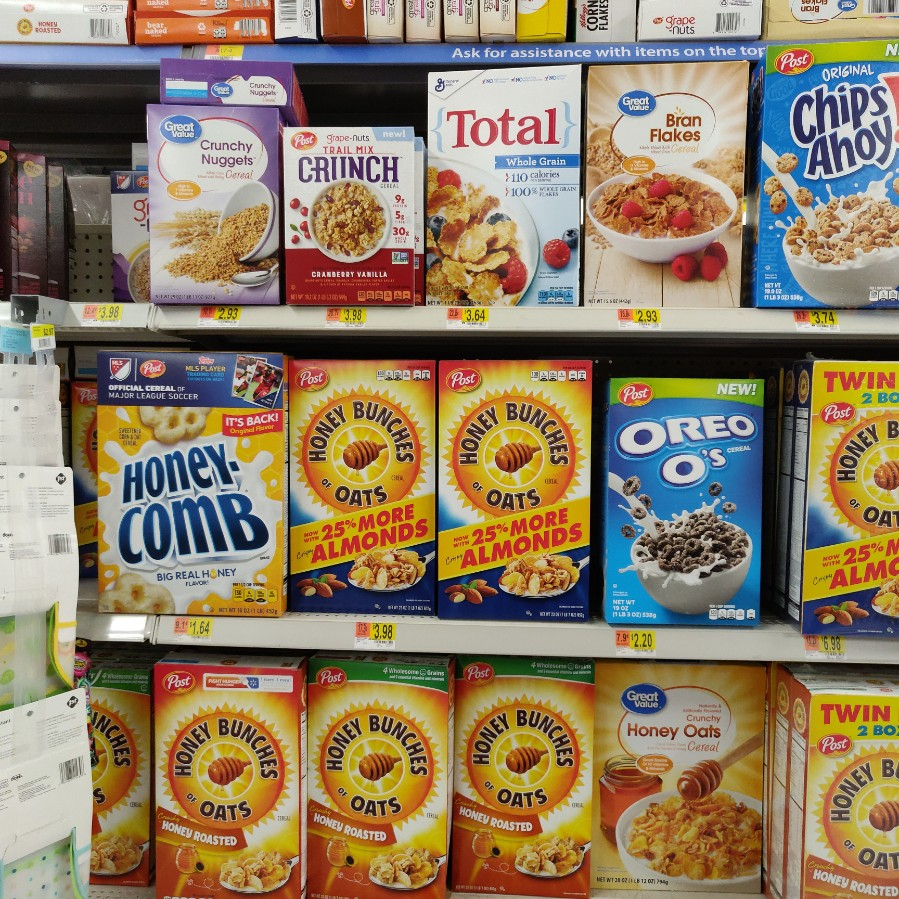Chips Ahoys-565717529: (766, 41, 896, 310)
Honey Comb- 009288857: (96, 349, 289, 616)
Oreo-563424384: (603, 375, 765, 628)
